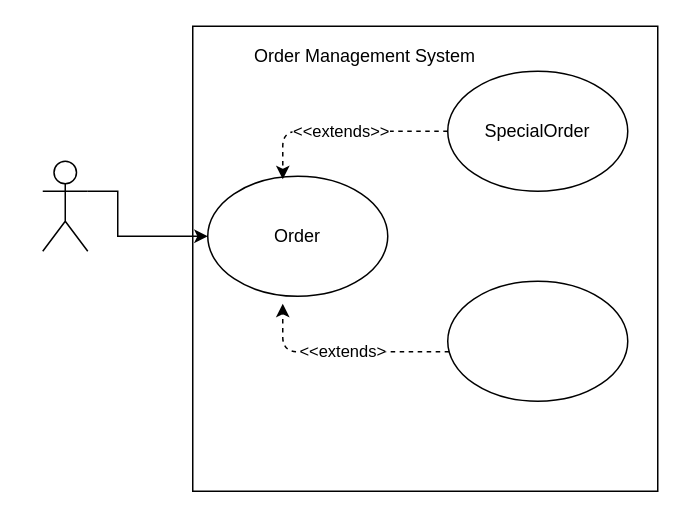
Image size: 684x518. Some labels were removed from this diagram. Each missing label, with the centre of its shape:
"Customer" belongs at point 64,205.
"NormalOrder" belongs at point 537,340.
